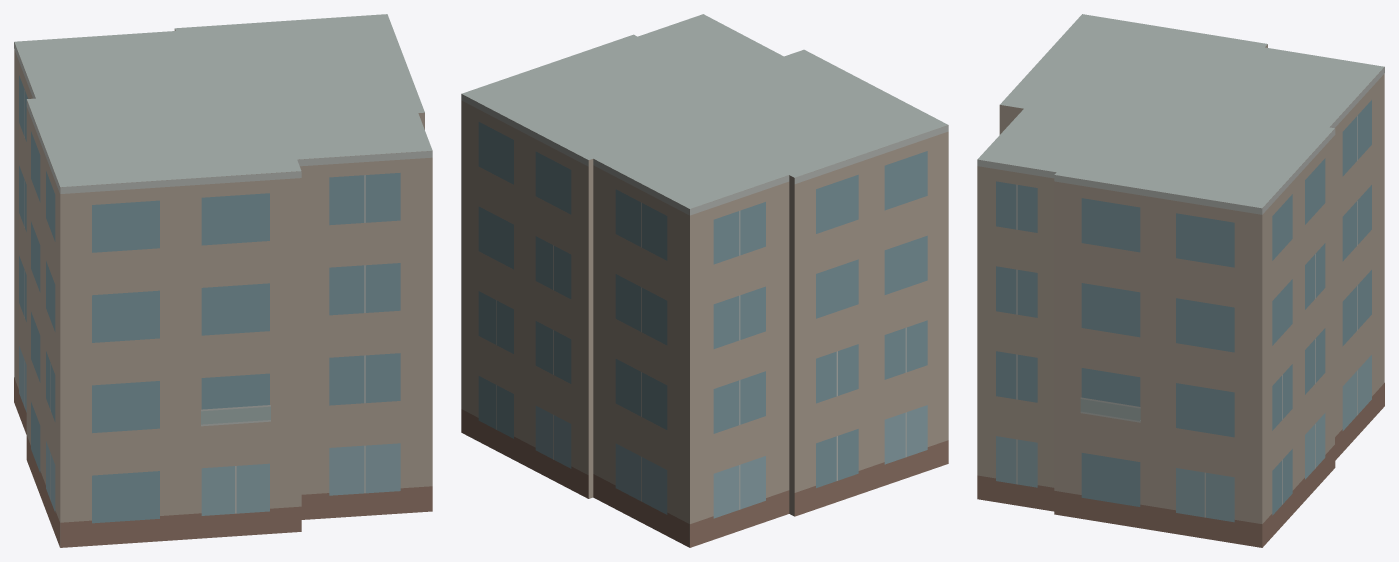
The model's file is survey-upis-32803710.glb.
3 views of the same model, side by side, from view 1: azimuth 30°, elevation 25°; view 2: azimuth 150°, elevation 25°; view 3: azimuth 270°, elevation 25° (orthographic). The views are drawn at different scales.
Visible parts, largest first — view 1: survey-upis-32803710.tmp; view 2: survey-upis-32803710.tmp; view 3: survey-upis-32803710.tmp.
Part boxes in pixels (<box>): survey-upis-32803710.tmp: <box>14,14,432,547</box>; survey-upis-32803710.tmp: <box>461,14,948,547</box>; survey-upis-32803710.tmp: <box>977,14,1384,547</box>.
Bounding box in the file's own units: 15.53 × 12.65 × 13.77.
